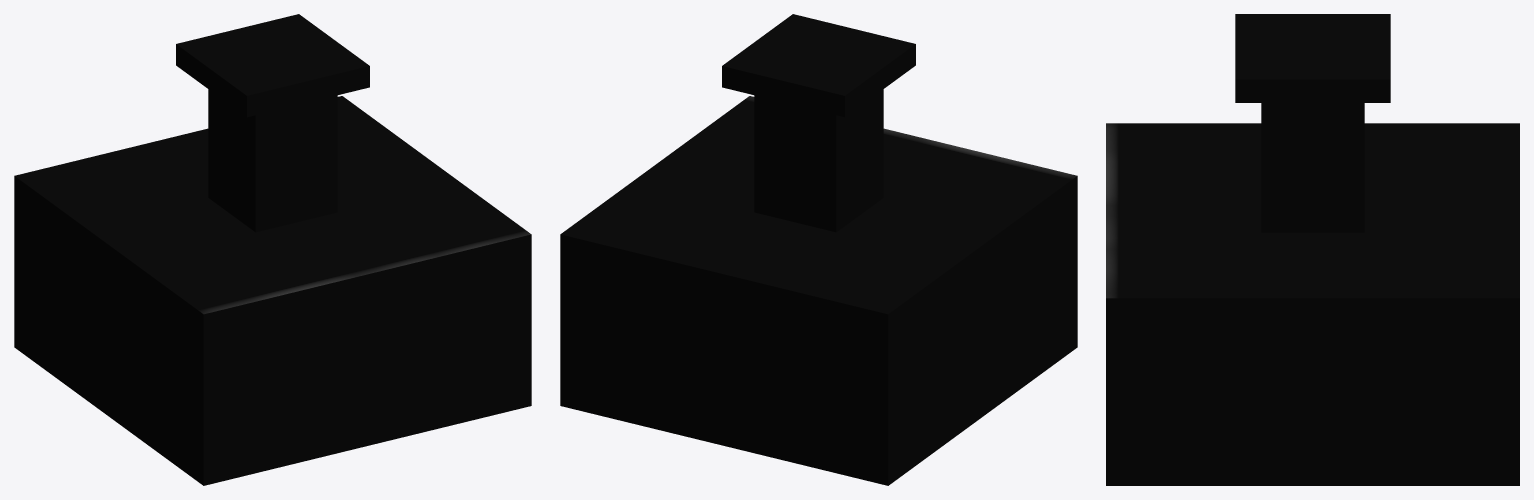
File: hyper_node_creator.obj
The picture shows the model from 3 angles, left to right: view 1: azimuth 30°, elevation 25°; view 2: azimuth 150°, elevation 25°; view 3: azimuth 270°, elevation 25°; orthographic projection. The views are drawn at different scales.
Parts seen in each view (by area): view 1: shape1, shape2, shape3; view 2: shape1, shape2, shape3; view 3: shape1, shape3, shape2.
Part boxes in pixels (x1,y1,x2,y2): shape1: (14, 96, 531, 485); shape2: (208, 89, 337, 232); shape3: (176, 14, 369, 117); shape1: (560, 96, 1077, 485); shape2: (754, 89, 883, 232); shape3: (722, 14, 915, 117); shape1: (1106, 123, 1519, 485); shape3: (1235, 14, 1390, 102); shape2: (1261, 103, 1364, 232).
Size of the model in its own units: 1 by 0.9375 by 1.
